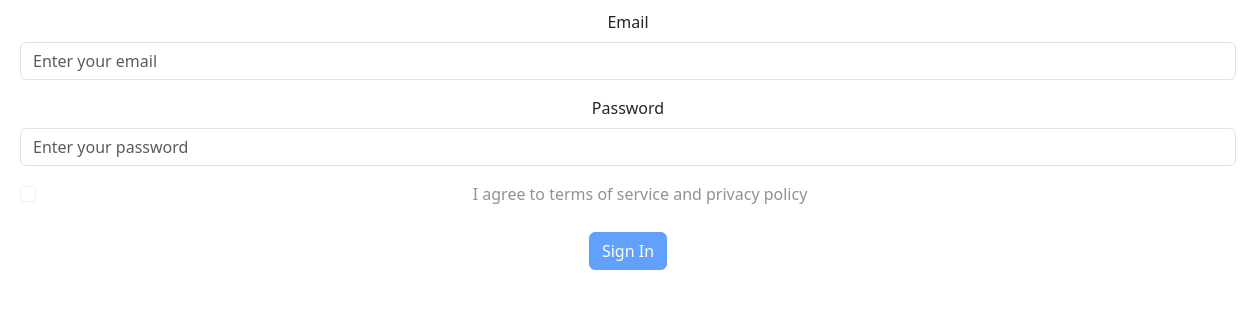
Test: Başarısız Submit › Yanlış email adresi girdim
Type "test@tester" into the field with test id "email". click: (628, 61)
box: x1=20 y1=42 x2=1236 y2=80
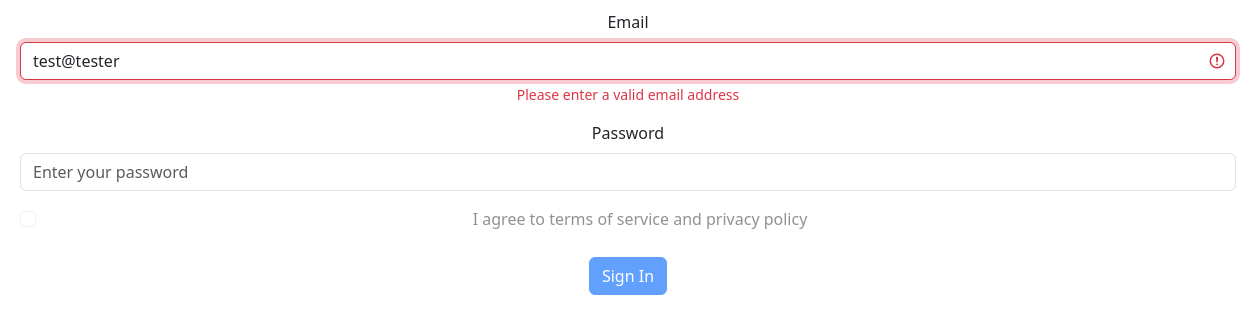
Check: the submit button is disabled, box x1=589 y1=257 x2=667 y2=295
Check: the text "Please enter a valid email address" is shown, box x1=517 y1=85 x2=739 y2=104
